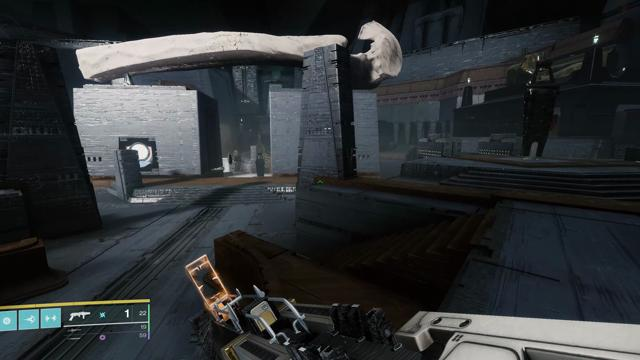traveler: (126, 142, 153, 168)
